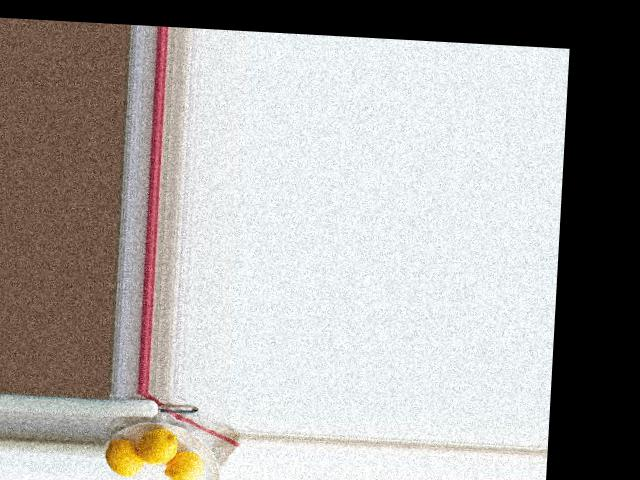lemon: (101, 441, 145, 477)
